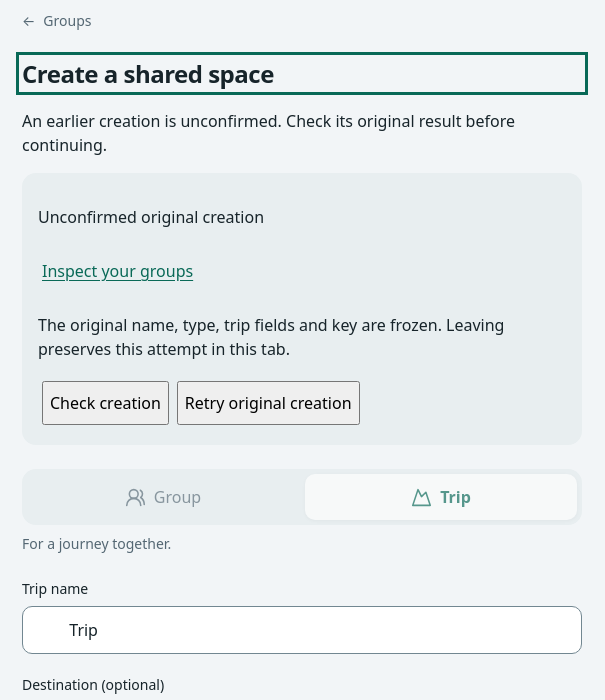
Test case: read failure never shows false empty/zero or opens the group; recovery stays available
The width and height of the screenshot is (605, 700).
Click the button "Check creation" at (105, 403), box [42,381,169,425]
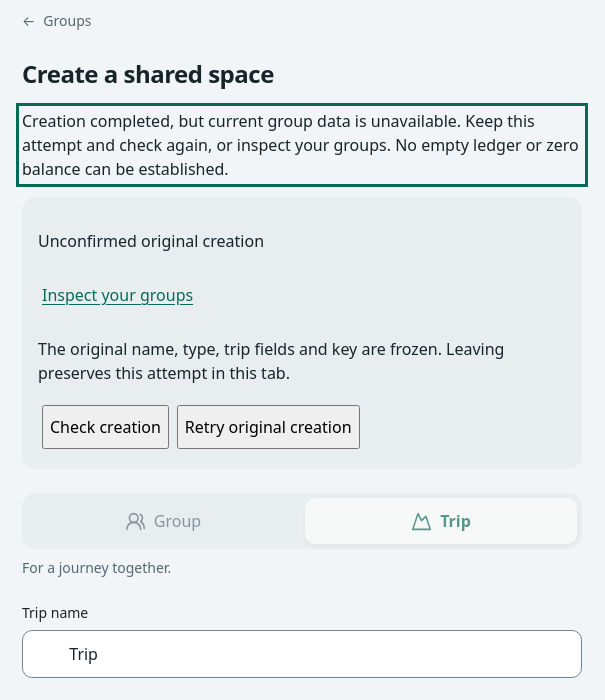
Now the text "No empty ledger or zero balance" is shown, box [22,110,579,180]
